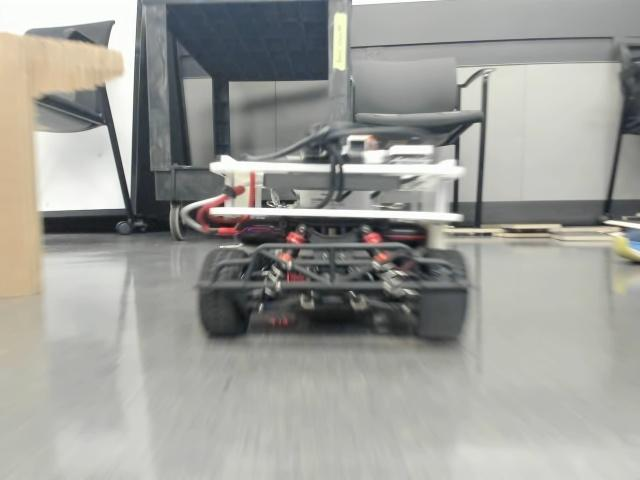Car: (178, 117, 468, 346)
